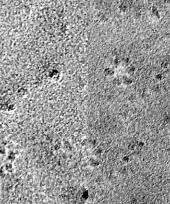rosette_object: (103, 56, 137, 87), (0, 146, 18, 179), (88, 138, 104, 168)
